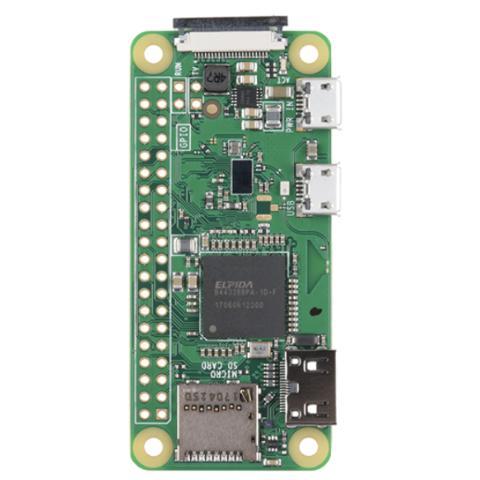Raspberry-Pi-Zero-W: (130, 15, 344, 470)
